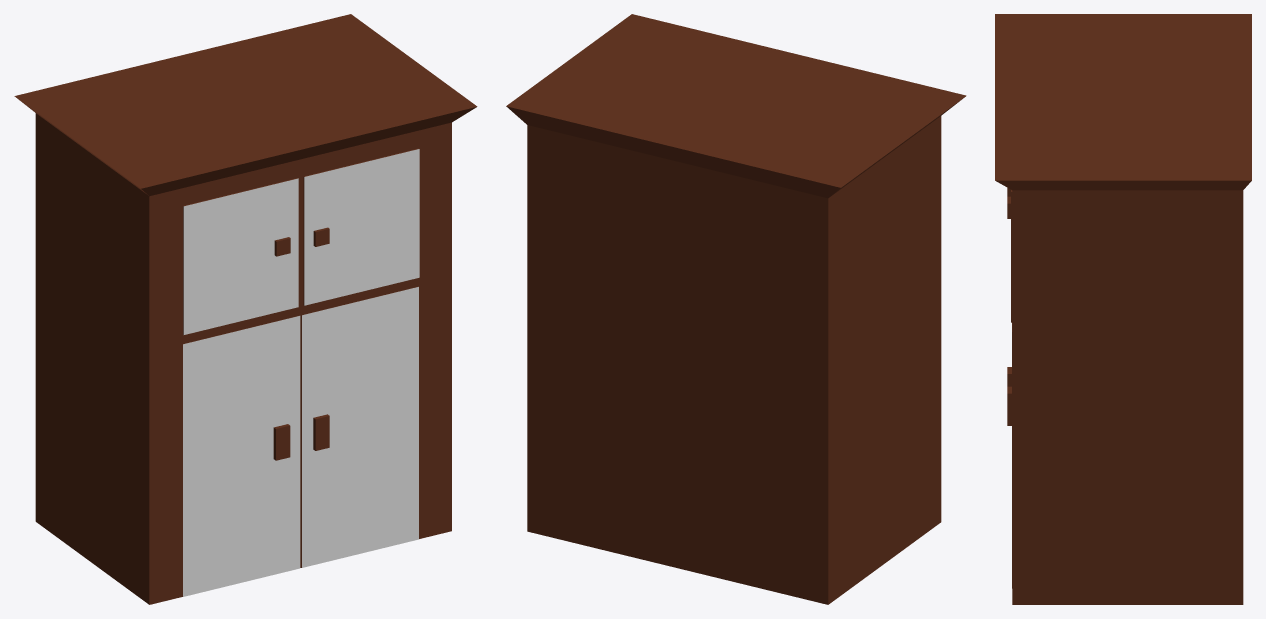
Rendered from Bedside table.fbx.
3 views of the same model, side by side, from view 1: azimuth 30°, elevation 25°; view 2: azimuth 150°, elevation 25°; view 3: azimuth 270°, elevation 25° (orthographic).
Visible parts, largest first — view 1: Cube; view 2: Cube; view 3: Cube.
Boxes of the visible parts, x1,y1,x2,y2 form: Cube: (14,14,477,604); Cube: (506,14,966,604); Cube: (995,14,1251,604).
Size of the model in its own units: 342 by 414 by 223.
